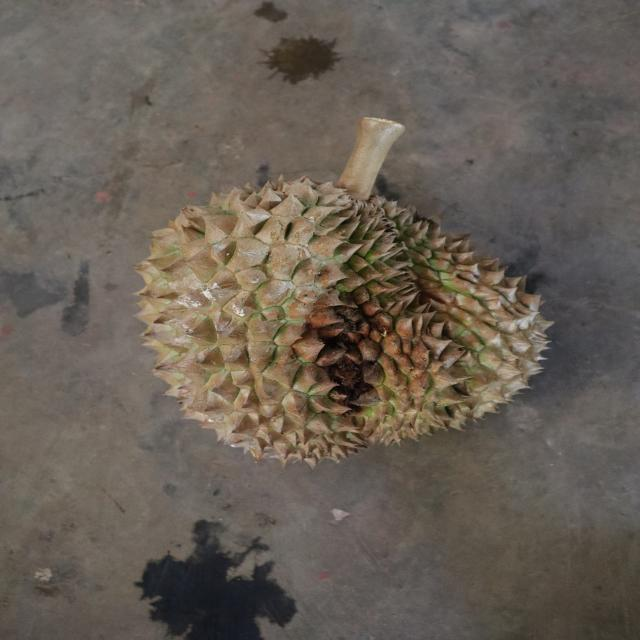defective: (132, 175, 556, 468)
